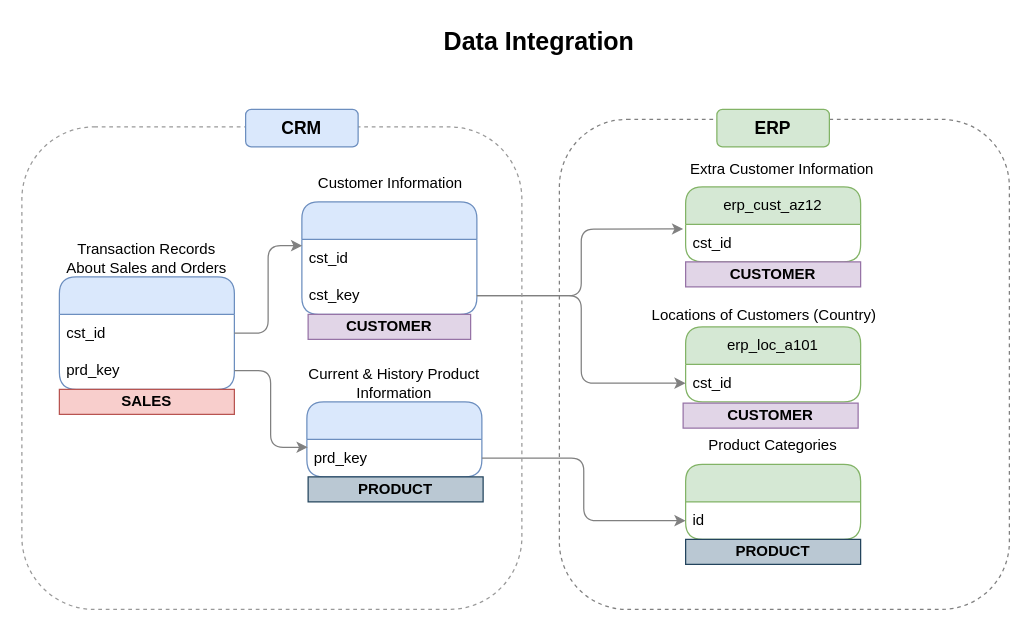
This 1031x631 diagram has some shape labels left out. The shapes that lost their labels are listed below. From the top down, each one's box as (x1, y1, x2, y2) in pixels, then its label:
(301, 201, 477, 314): crm_cust_info
(58, 276, 234, 389): crm_sales_details
(306, 401, 482, 477): crm_prod_info
(684, 463, 861, 539): erp_px_cat_g1v2
